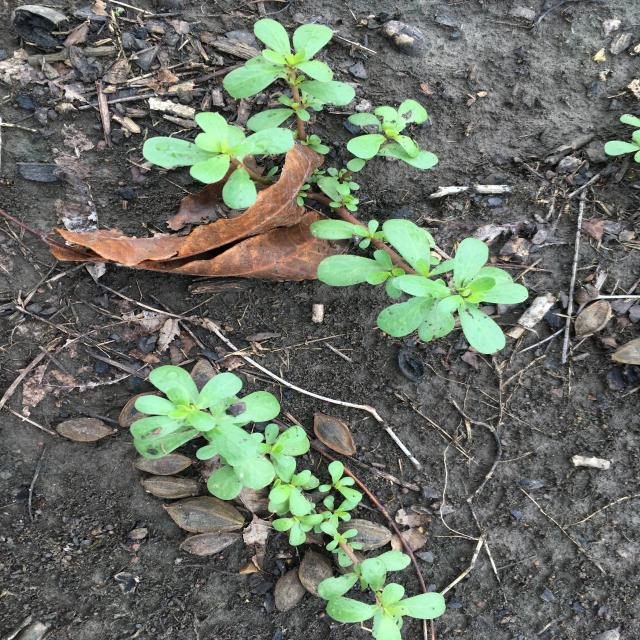Purslane: (143, 19, 529, 354), (129, 365, 446, 640)
